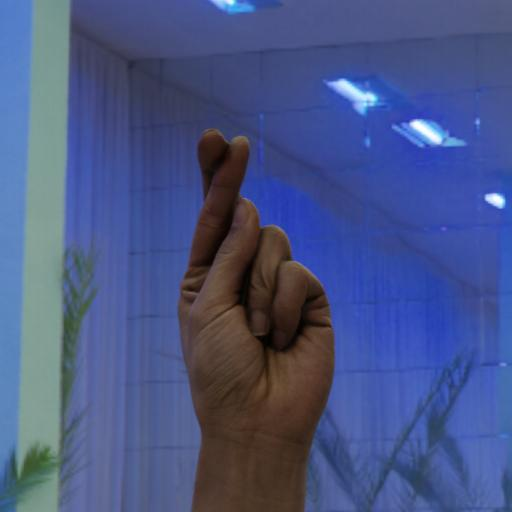R: (174, 121, 342, 464)
